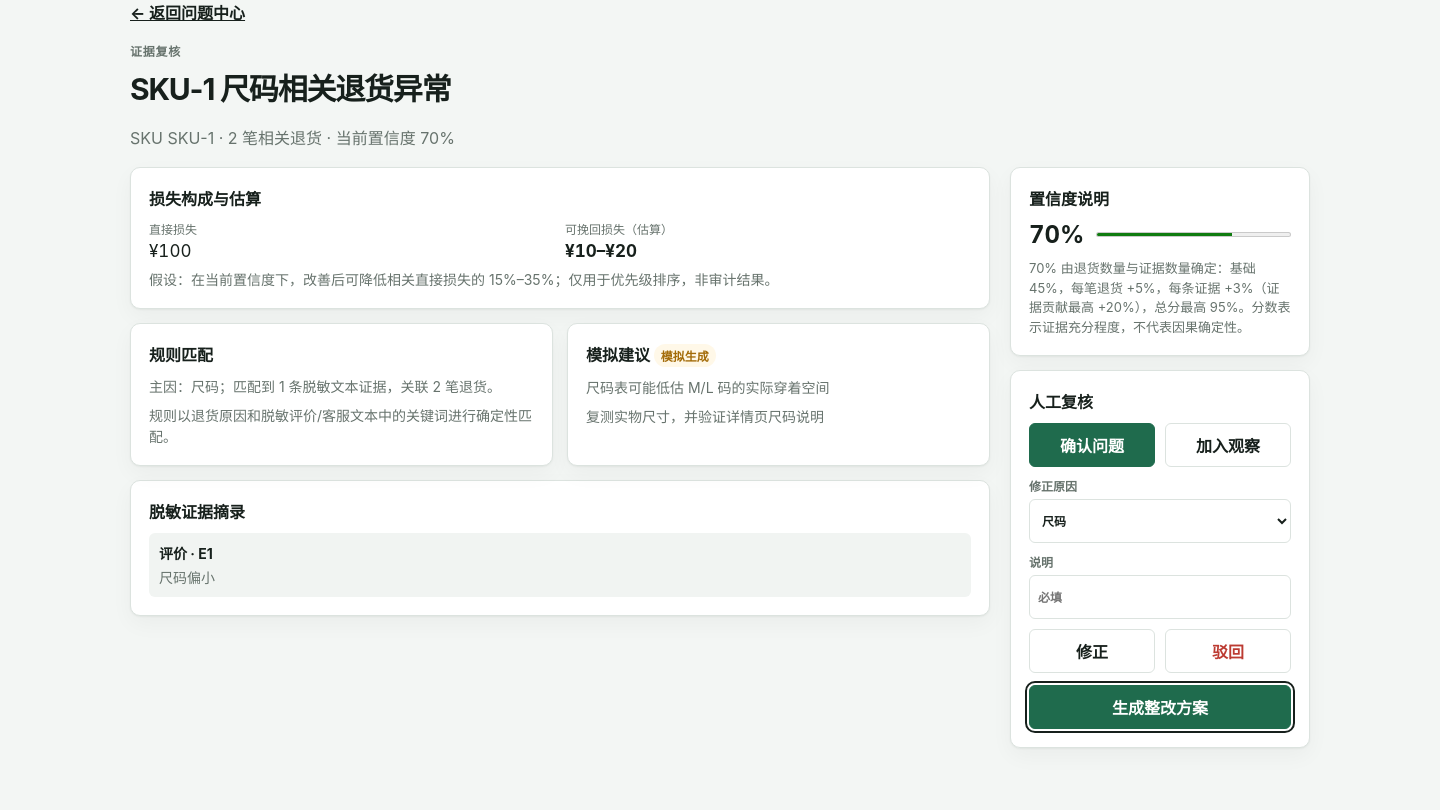
Test case: moves focus into the draft drawer and returns it on Escape
The image size is (1440, 810).
Click the button "生成整改方案" at [1160, 707], box [1029,685,1291,729]
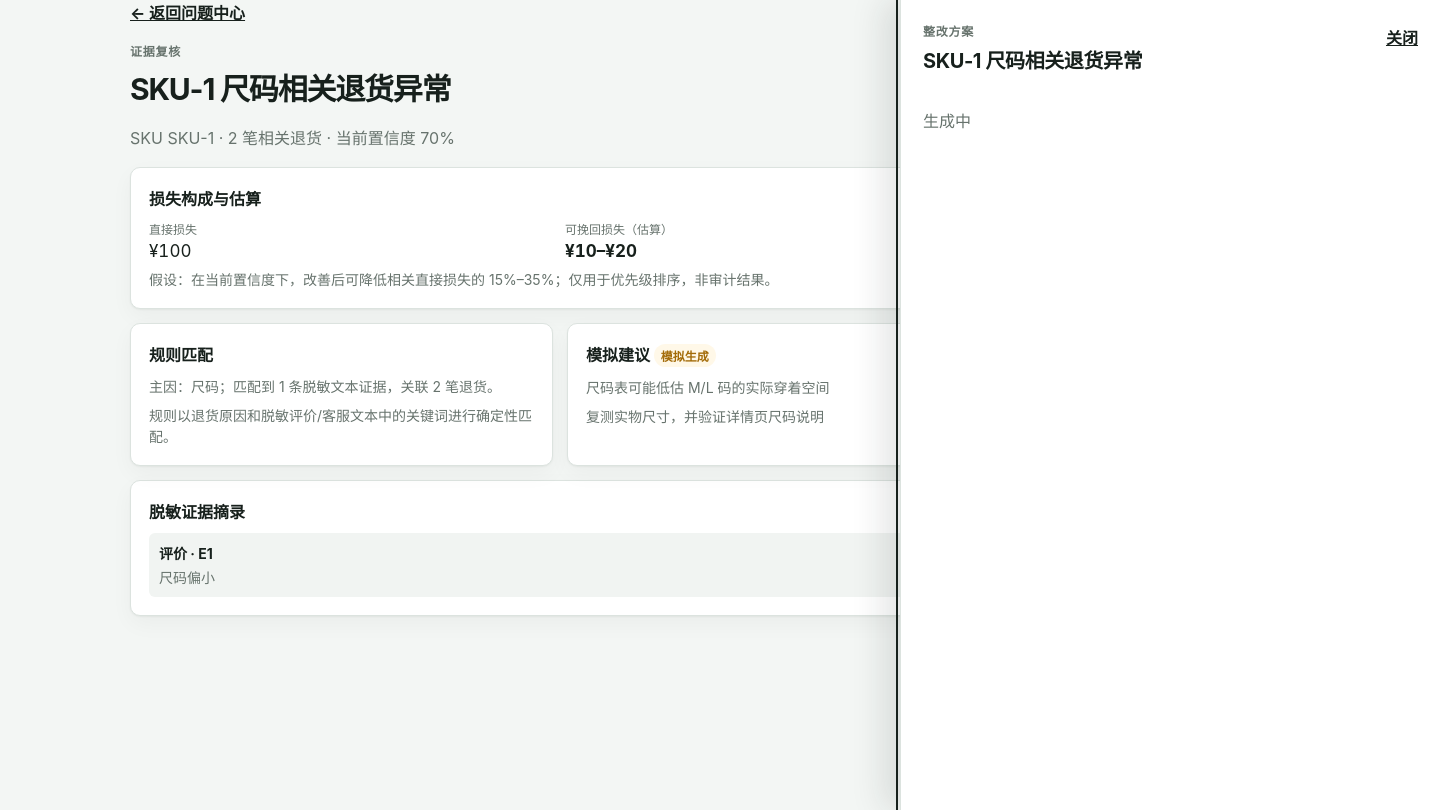
Press Escape
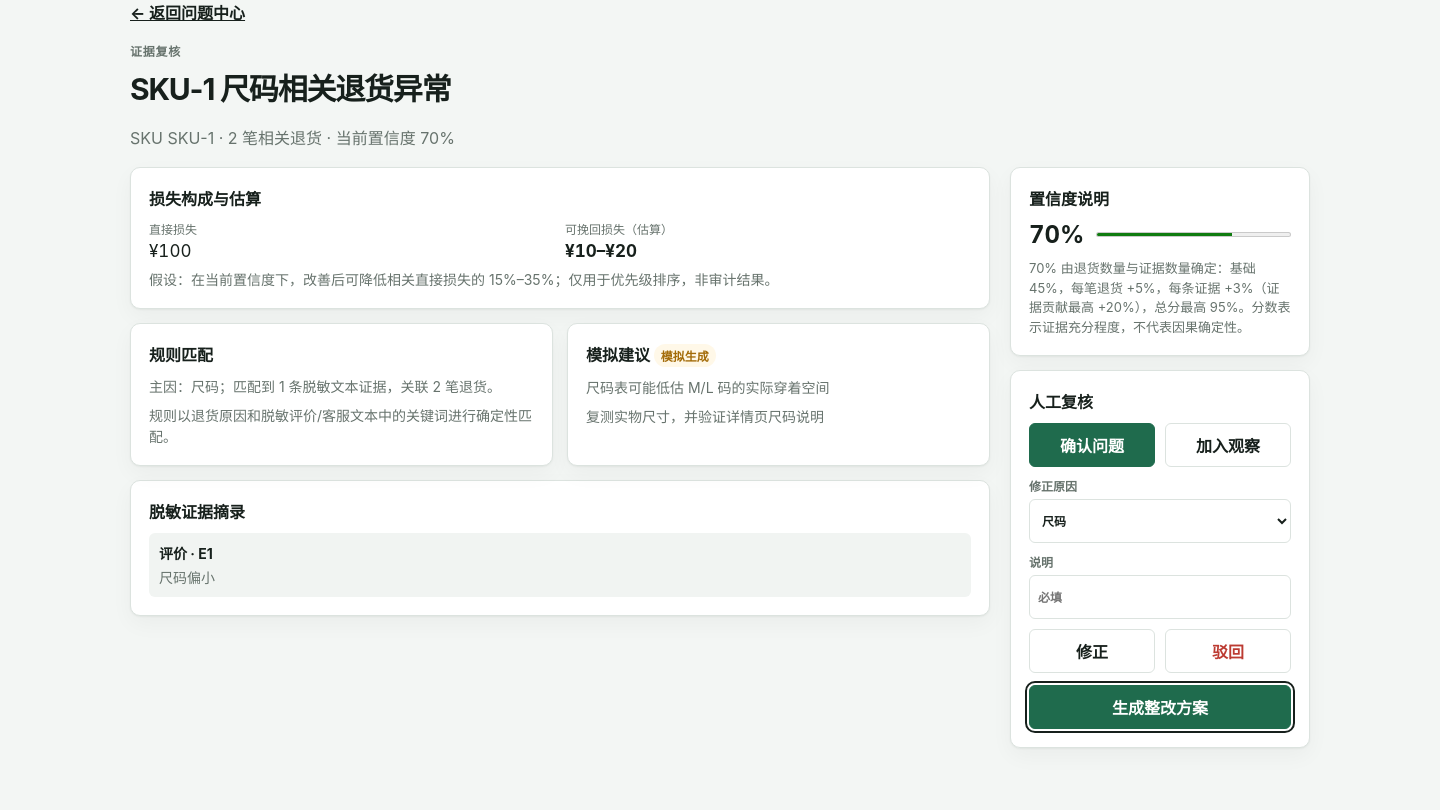
Result: the dialog is gone
